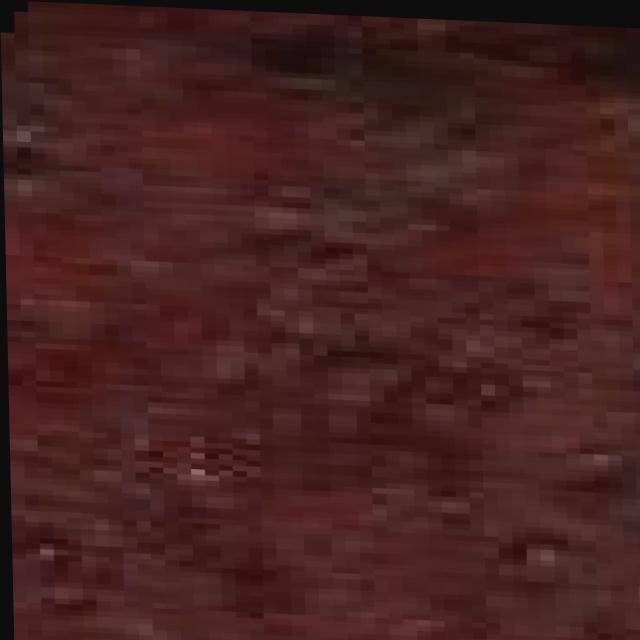Uniform Corrosion: (1, 1, 640, 640)
